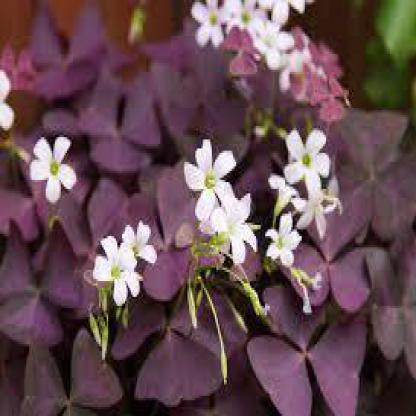Kupu-Kupu: (246, 282, 367, 413), (121, 287, 239, 415), (1, 219, 74, 347), (82, 69, 155, 179), (36, 10, 96, 111)
